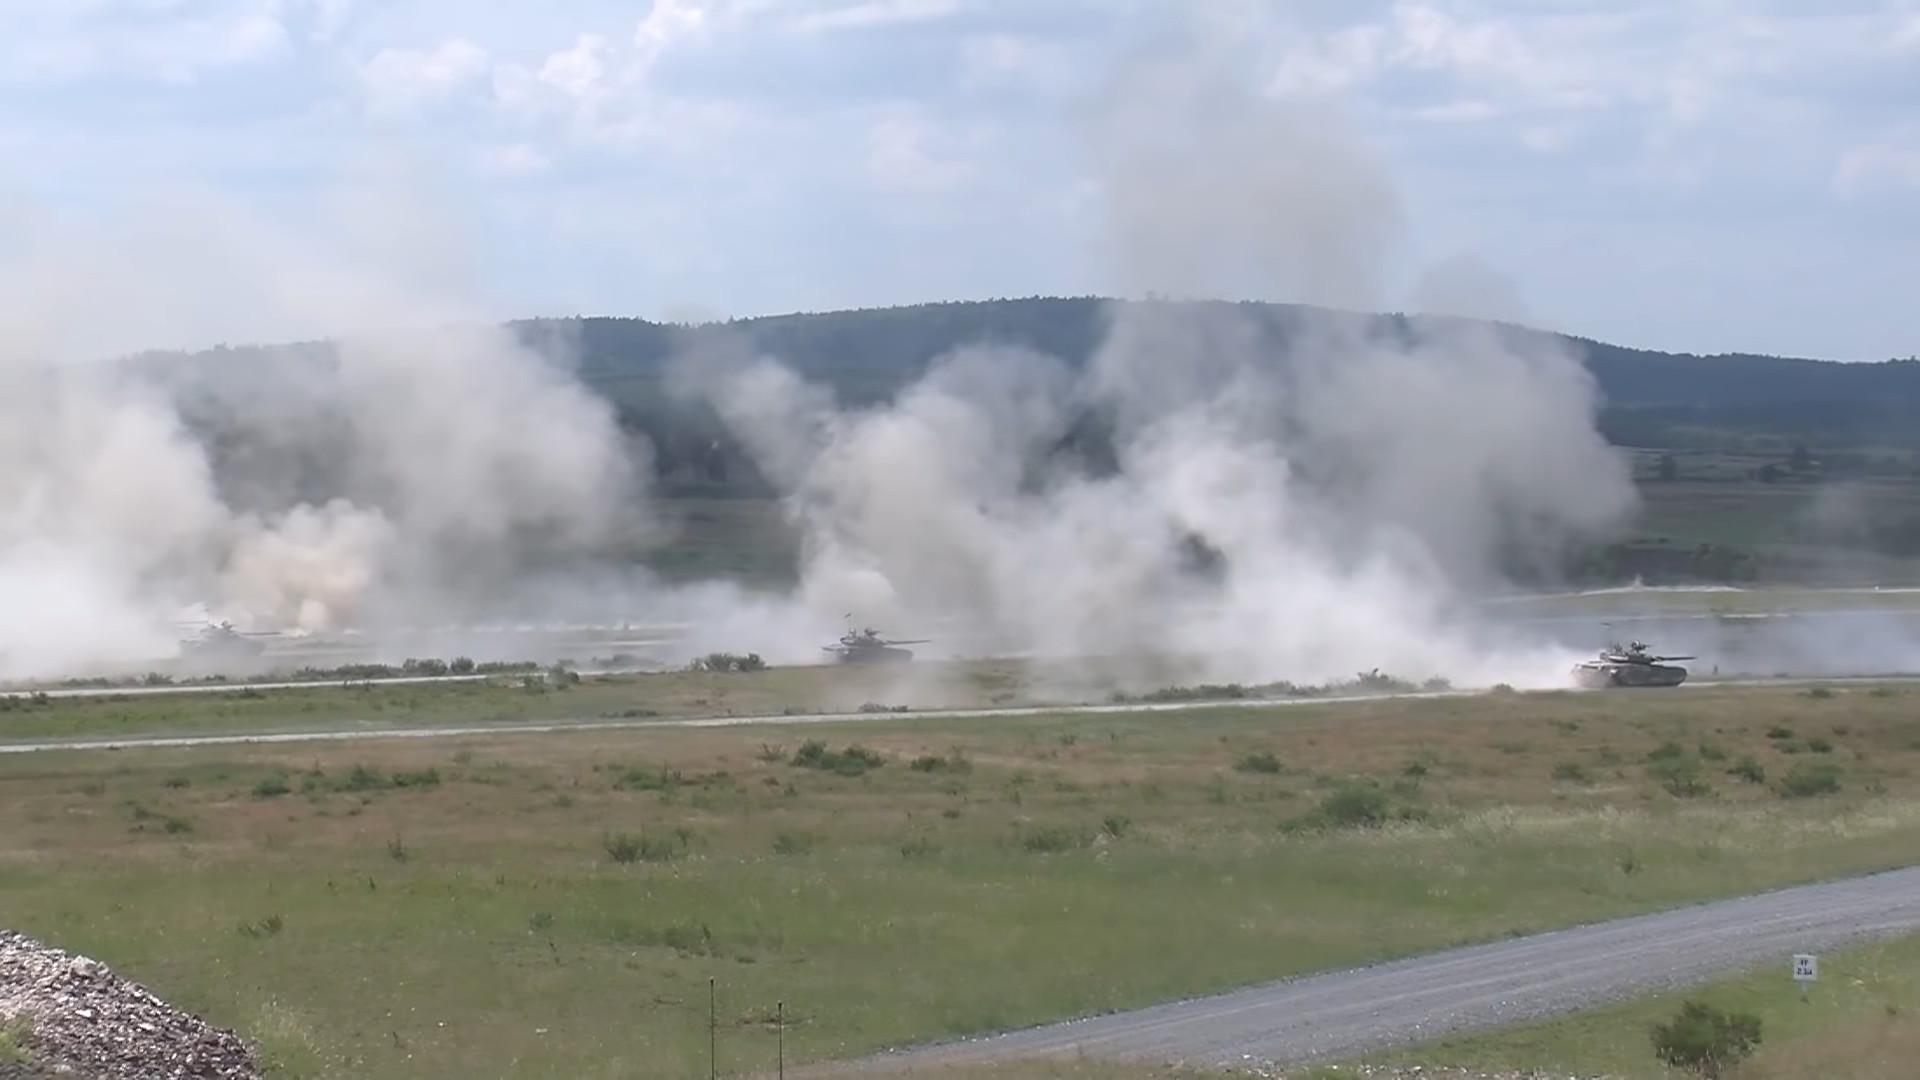tank: (1576, 645, 1697, 687), (823, 628, 930, 663), (179, 625, 280, 654)
